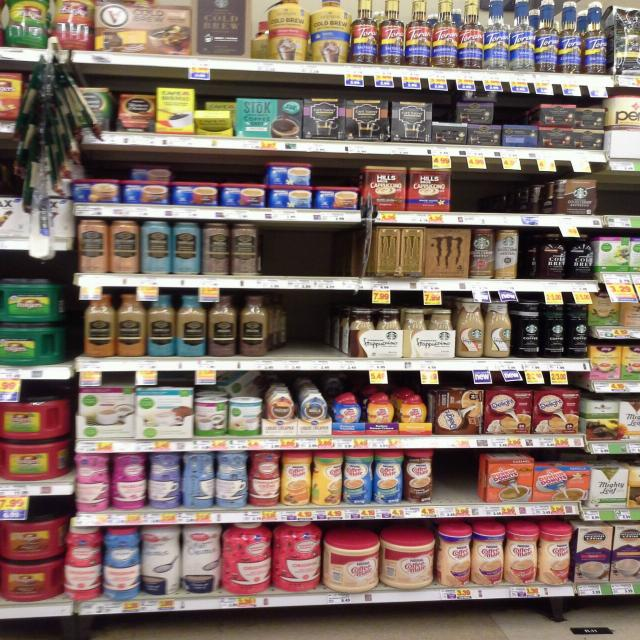unorganised: (432, 385, 486, 435), (179, 452, 215, 509), (193, 93, 235, 135), (312, 450, 343, 504), (216, 373, 260, 394), (457, 100, 493, 123), (131, 163, 172, 180)
